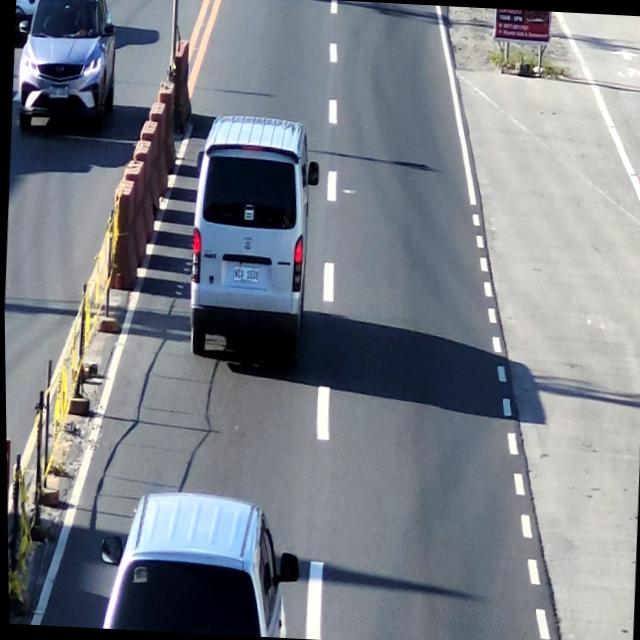Car: (185, 112, 315, 356), (88, 498, 286, 638)
License-Plate: (232, 262, 262, 290)
